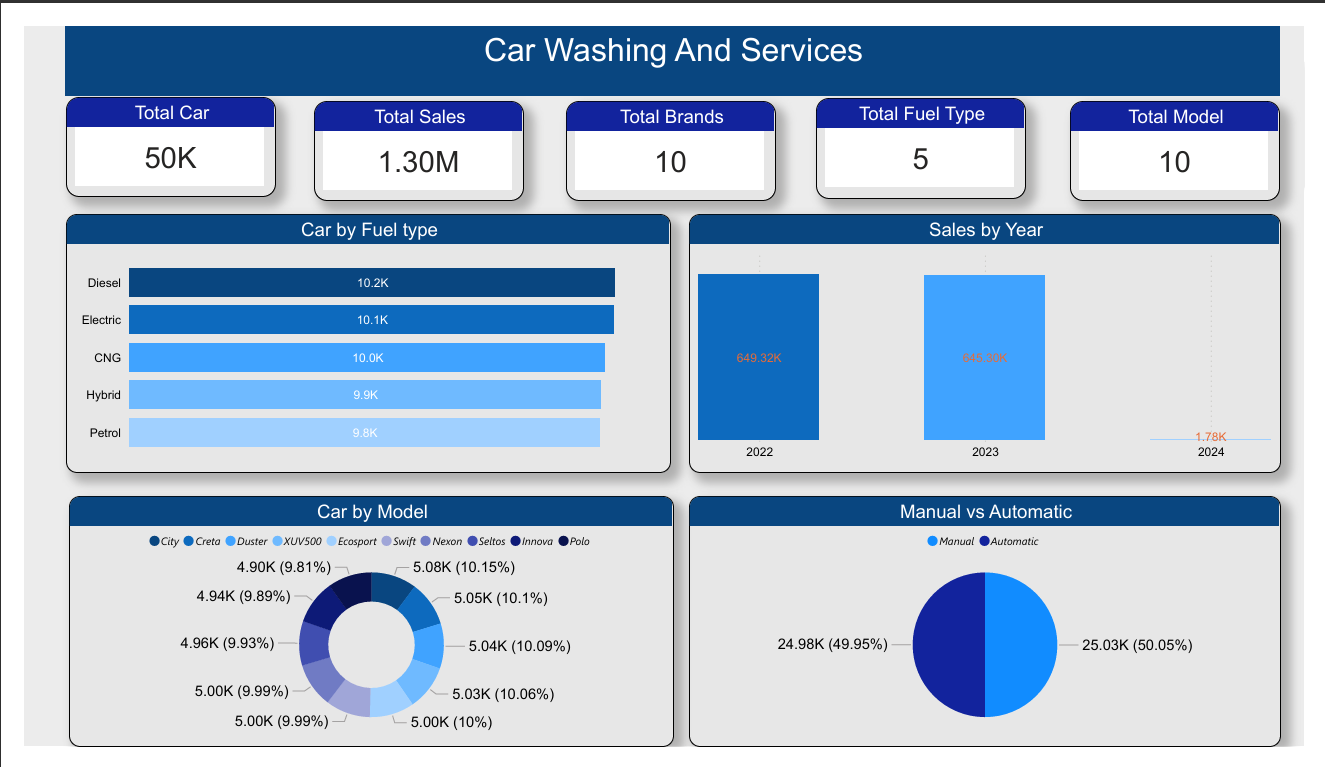

What the dashboard file says about the page in this screenshot:
{"tool":"powerbi","page":{"name":"Page 1","canvas":[1280,720],"ordinal":0},"visuals":[{"type":"cardVisual","title":"Total Car","fields":{"Data":["Count(Master_car_data.Car_ID)"]},"box":[41.2,70,209.9,100.2],"z":0,"group":"g1"},{"type":"cardVisual","title":"Total Sales","fields":{"Data":["Sum(Master_car_data.Sale_Price_Lakh)"]},"box":[289.6,74.1,209.9,100.2],"z":1000,"group":"g1"},{"type":"cardVisual","title":"Total Brands","fields":{"Data":["Count(Master_car_data.Brand)"]},"box":[541.6,74.1,209.9,100.2],"z":2000,"group":"g1"},{"type":"cardVisual","title":"Total Fuel Type","fields":{"Data":["Count(Master_car_data.Fuel_Type)"]},"box":[791.6,71.4,209.9,100.2],"z":3000,"group":"g1"},{"type":"cardVisual","title":"Total Model","fields":{"Data":["Count(Master_car_data.Model)"]},"box":[1045.7,74.1,209.9,100.2],"z":4000,"group":"g1"},{"type":"barChart","title":"Car by Fuel type","fields":{"Category":["Master_car_data.Fuel_Type"],"Y":["Count(Master_car_data.Car_ID)"]},"box":[41.2,186.6,605.1,259.3],"z":5000},{"type":"columnChart","title":"Sales by Year","fields":{"Y":["Sum(Master_car_data.Sale_Price_Lakh)"],"Category":["Master_car_data.Sale_Date.Variation.Date Hierarchy.Year"]},"box":[664.2,186.6,591.4,259.3],"z":6000},{"type":"donutChart","title":"Car  by Model","fields":{"Category":["Master_car_data.Model"],"Y":["CountNonNull(Master_car_data.Car_ID)"]},"box":[43.9,469.3,605.1,251.1],"z":7000},{"type":"pieChart","title":"Manual vs Automatic","fields":{"Category":["Master_car_data.Transmission"],"Y":["Count(Master_car_data.Car_ID)"]},"box":[664.2,469.3,591.4,251.1],"z":8000},{"type":"group","id":"g1","title":"Group 1","box":[41.2,70,1214.4,104.3],"z":8001},{"type":"textbox","box":[41.2,0,1214.4,70],"z":8002}]}

Visuals, with their boxes in screenshot pixels (x1, y1, x2, y2), scaled from the page's 1280x720 canvas onto the 1325x767 screenshot:
"Total Car" cardVisual: [left=43, top=75, right=260, bottom=181]
"Total Sales" cardVisual: [left=300, top=79, right=517, bottom=186]
"Total Brands" cardVisual: [left=561, top=79, right=778, bottom=186]
"Total Fuel Type" cardVisual: [left=819, top=76, right=1037, bottom=183]
"Total Model" cardVisual: [left=1082, top=79, right=1300, bottom=186]
"Car by Fuel type" barChart: [left=43, top=199, right=669, bottom=475]
"Sales by Year" columnChart: [left=688, top=199, right=1300, bottom=475]
"Car  by Model" donutChart: [left=45, top=500, right=672, bottom=766]
"Manual vs Automatic" pieChart: [left=688, top=500, right=1300, bottom=766]
"Group 1" group: [left=43, top=75, right=1300, bottom=186]
textbox: [left=43, top=0, right=1300, bottom=75]
